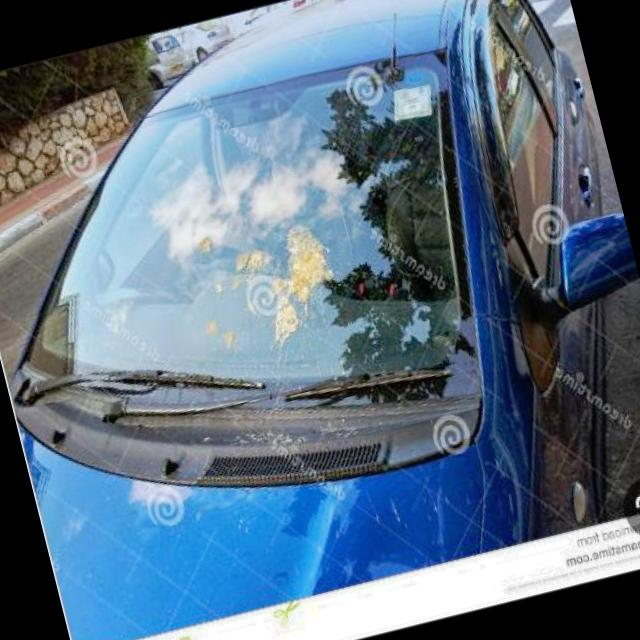Bird Poop: (274, 228, 333, 340), (234, 249, 270, 279), (224, 329, 235, 347), (206, 318, 218, 334), (199, 237, 213, 249), (215, 278, 224, 292)
